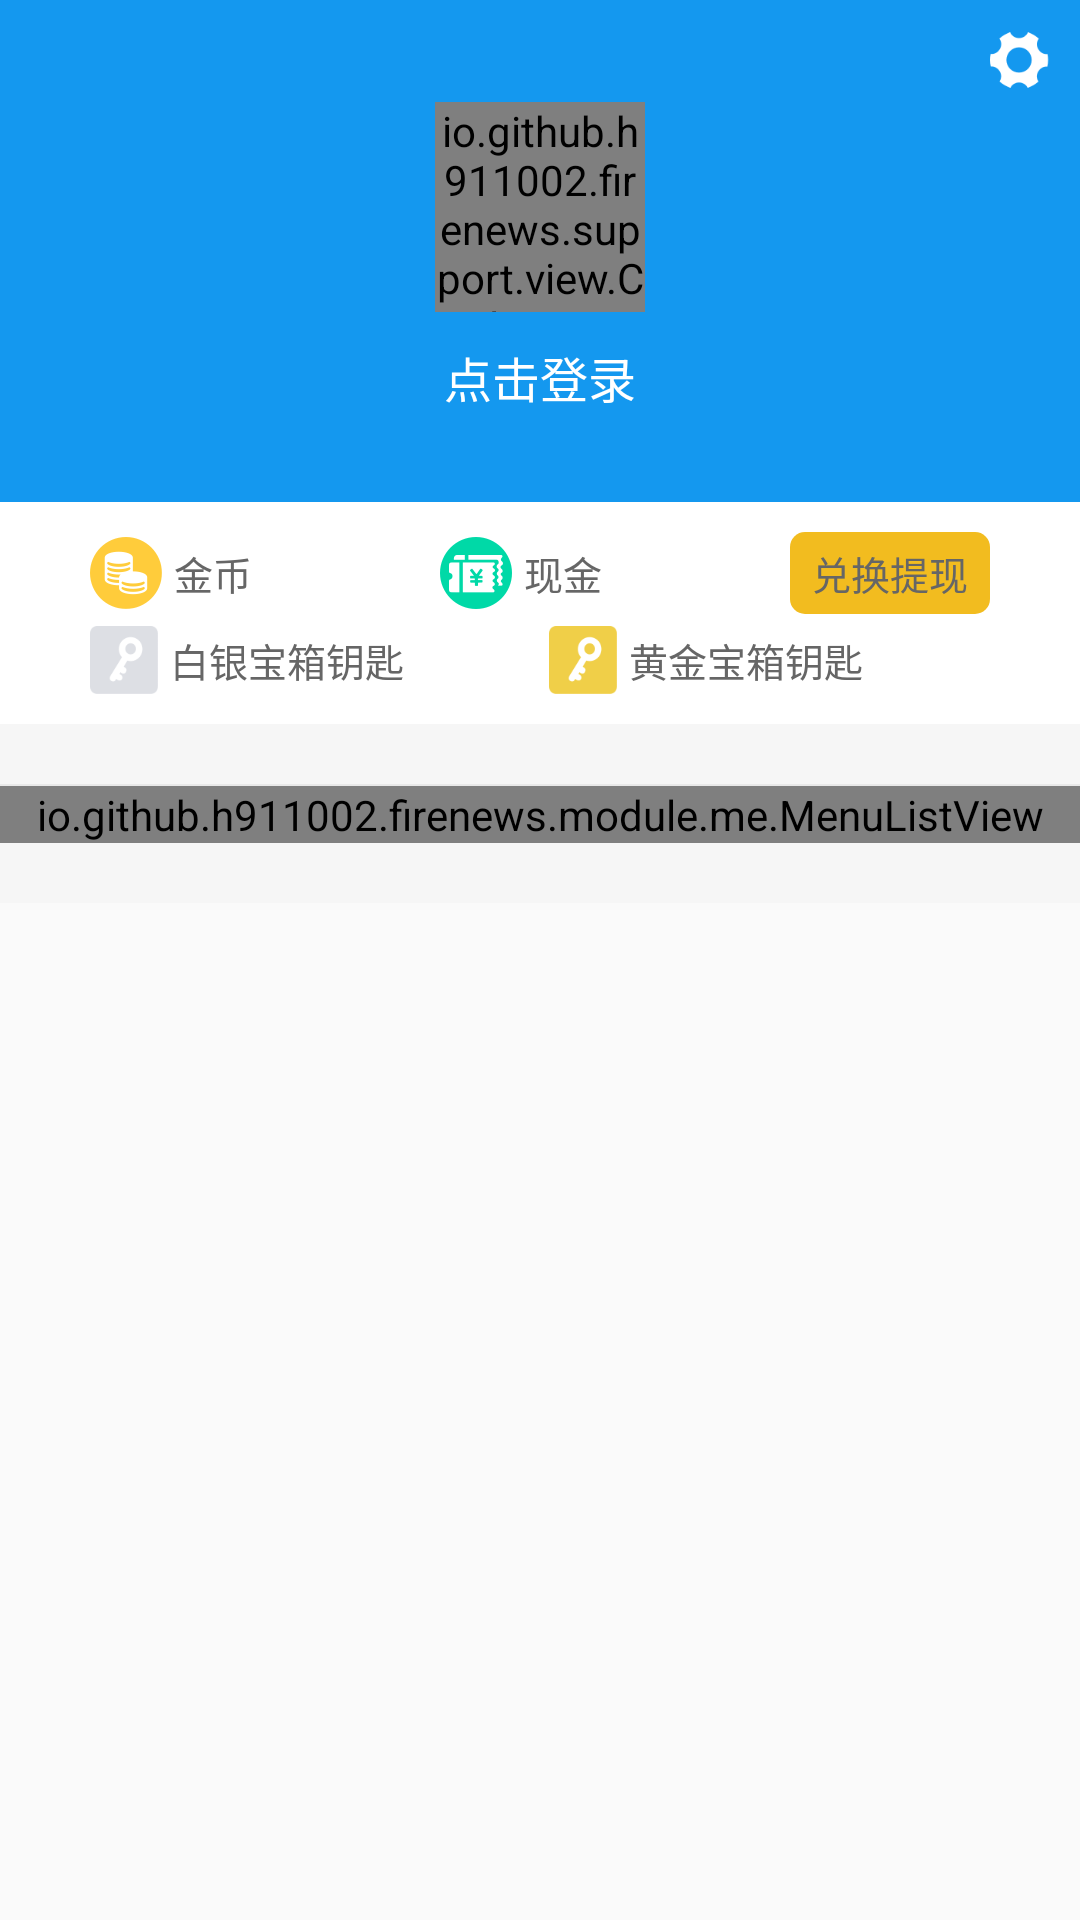

Icons on this 1080 x 1920 Android screen, each with the point to tap as (x=x, y=y):
setting: (x=1019, y=60)
